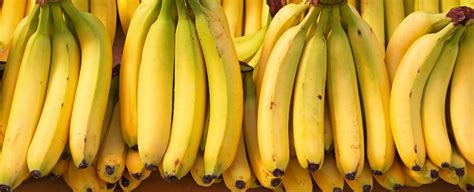banana: (1, 24, 57, 192), (22, 26, 82, 180), (190, 13, 245, 181), (346, 16, 397, 174), (160, 16, 209, 180), (321, 23, 370, 187), (67, 11, 113, 167), (255, 22, 301, 178), (133, 14, 178, 168), (388, 32, 430, 174), (293, 28, 333, 174)
